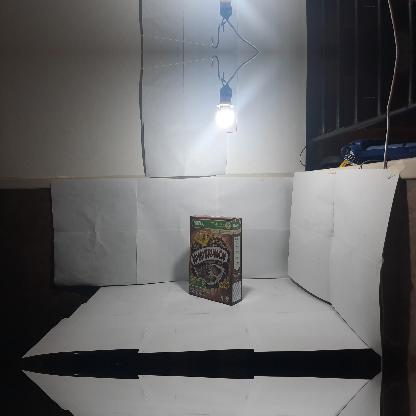Koko-Krunch: (189, 214, 242, 306)
